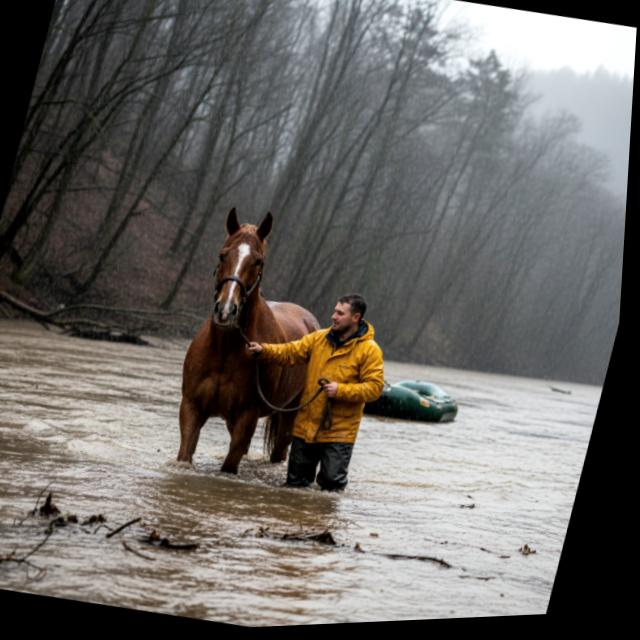civilian: (204, 264, 418, 522)
horse: (133, 187, 367, 503)
